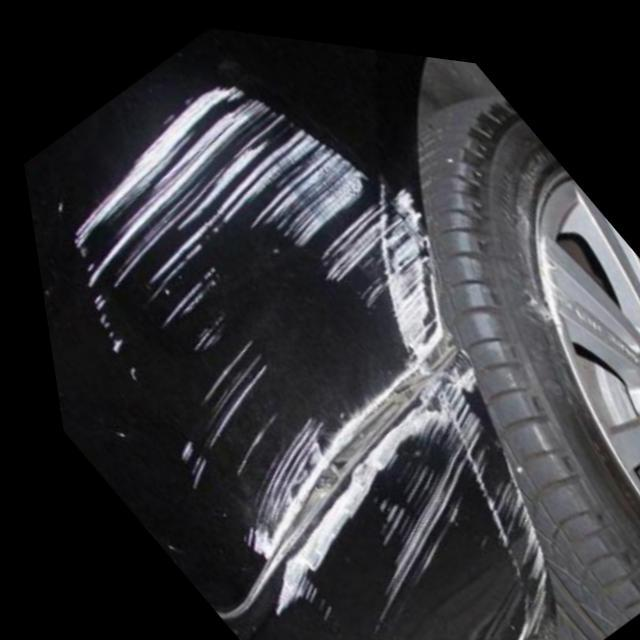rub: (62, 72, 436, 553), (254, 357, 533, 640)
